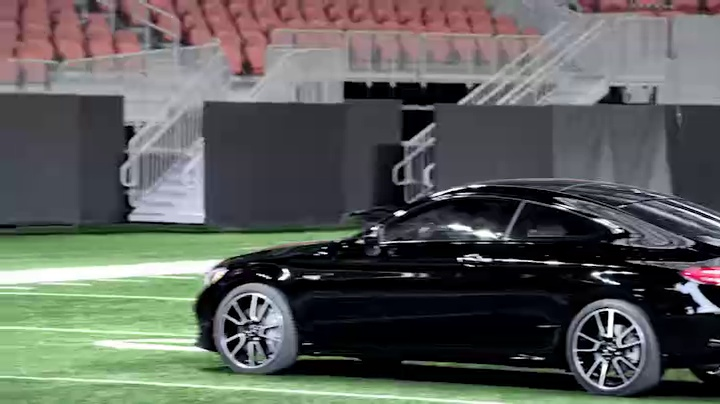amg: (186, 177, 720, 401)
